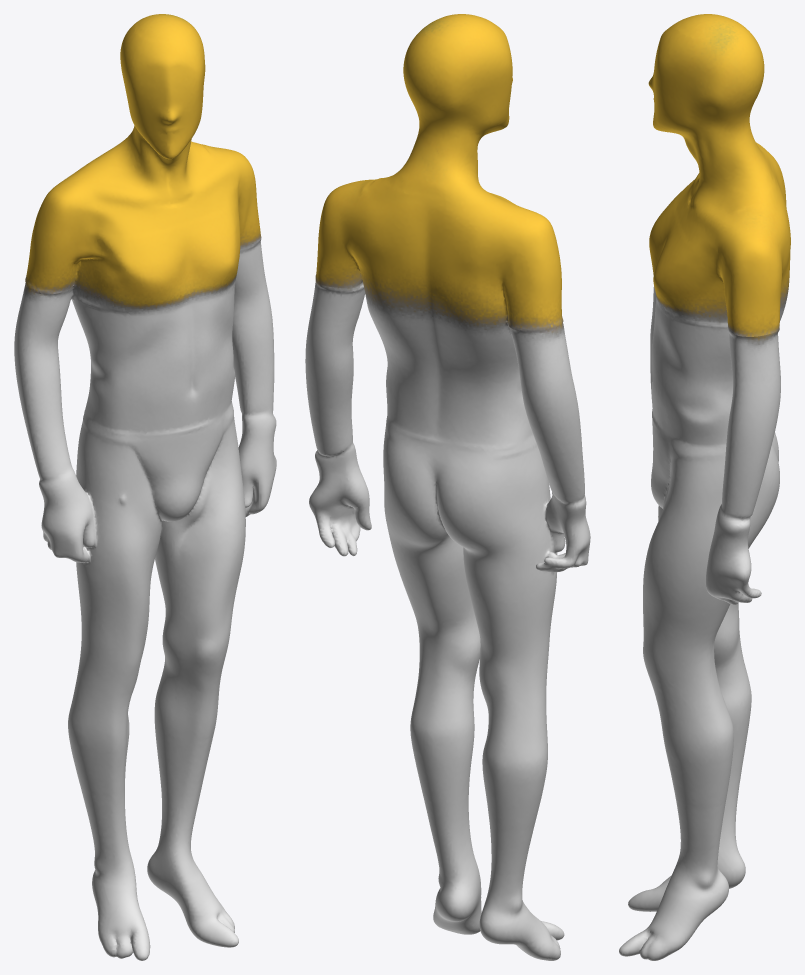
Rendered from mannequin_dorad.glb.
3 renders of one model, left to right at view 1: azimuth 30°, elevation 25°; view 2: azimuth 150°, elevation 25°; view 3: azimuth 270°, elevation 25°, orthographic. The views are drawn at different scales.
Size of the model in its own units: 0.1515 by 0.512 by 0.0863.
2 materials, 2 textured.
